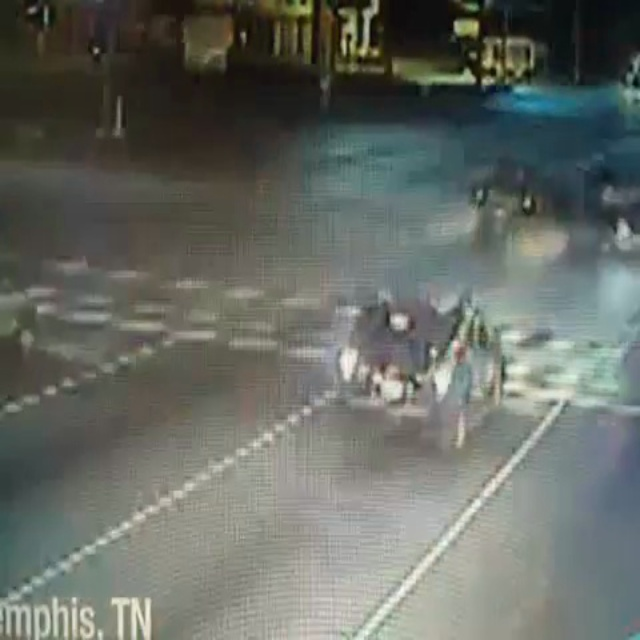acc: (462, 133, 638, 281)
